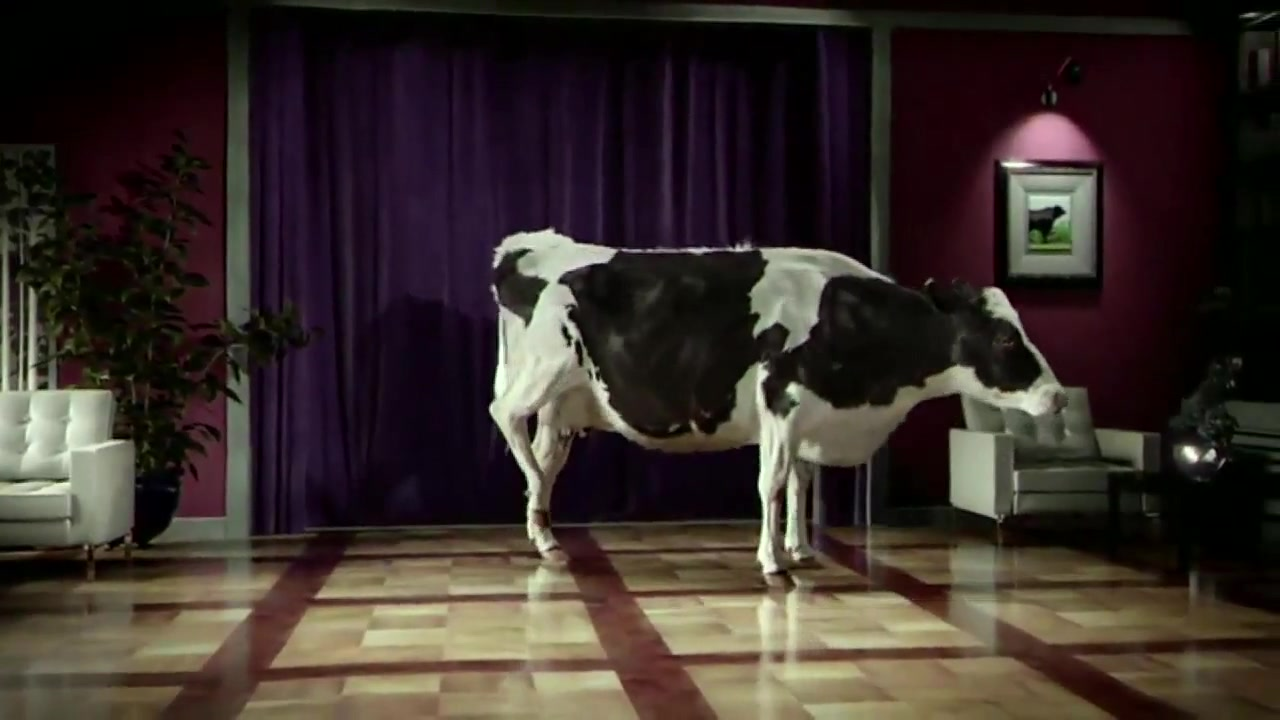cow: (483, 226, 1068, 596)
